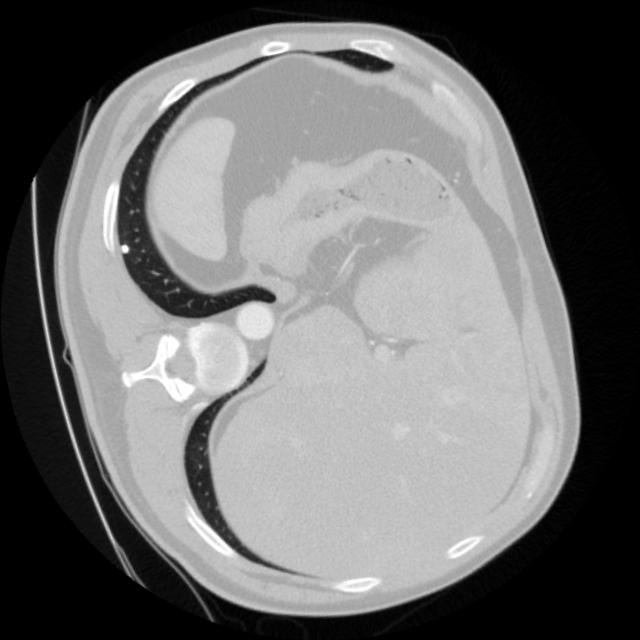nodule: (112, 237, 138, 263)
